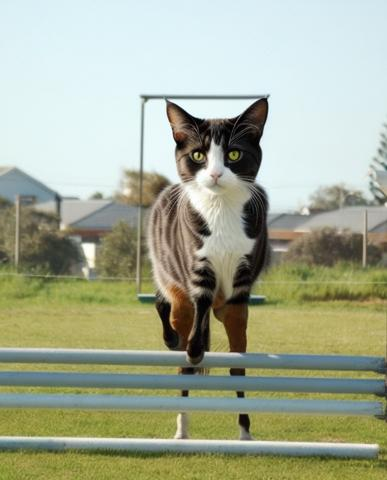cat: (140, 94, 270, 304)
horse: (153, 128, 252, 441)
